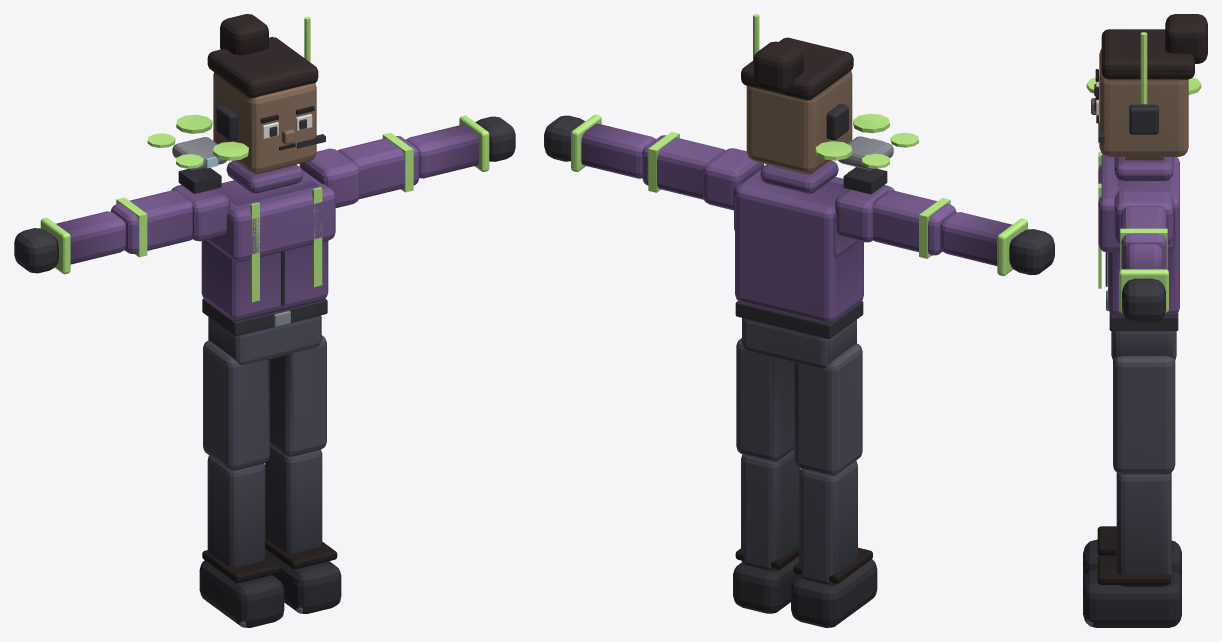
Rendered from amara.glb.
3 views of the same model, side by side, from view 1: azimuth 30°, elevation 25°; view 2: azimuth 150°, elevation 25°; view 3: azimuth 270°, elevation 25° (orthographic). The views are drawn at different scales.
Parts seen in each view (by area): view 1: Amara_Diallo; view 2: Amara_Diallo; view 3: Amara_Diallo.
Boxes of the visible parts, bbox=[...] form: Amara_Diallo: bbox=[14, 14, 515, 627]; Amara_Diallo: bbox=[544, 14, 1054, 627]; Amara_Diallo: bbox=[1083, 14, 1207, 627].
Size of the model in its own units: 1.94 by 2.16 by 0.4117.
